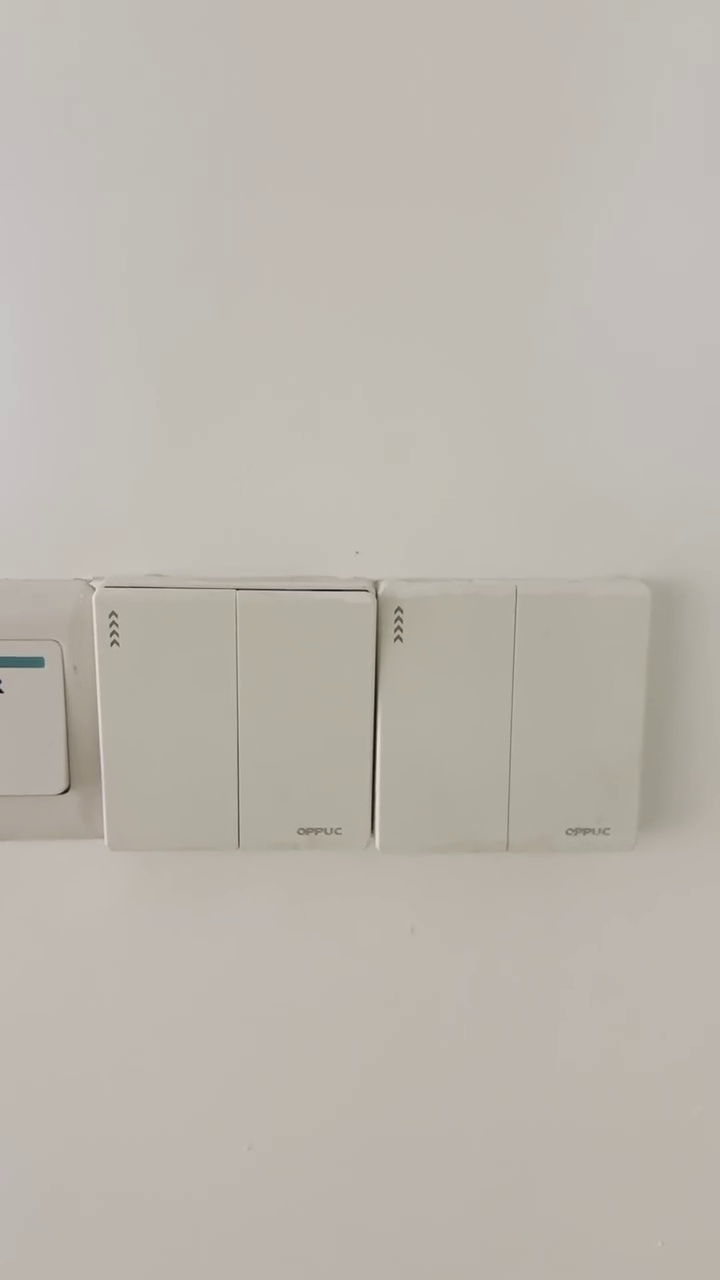button1: (379, 593, 510, 853), (102, 594, 231, 842), (243, 598, 367, 849), (516, 599, 637, 847)
